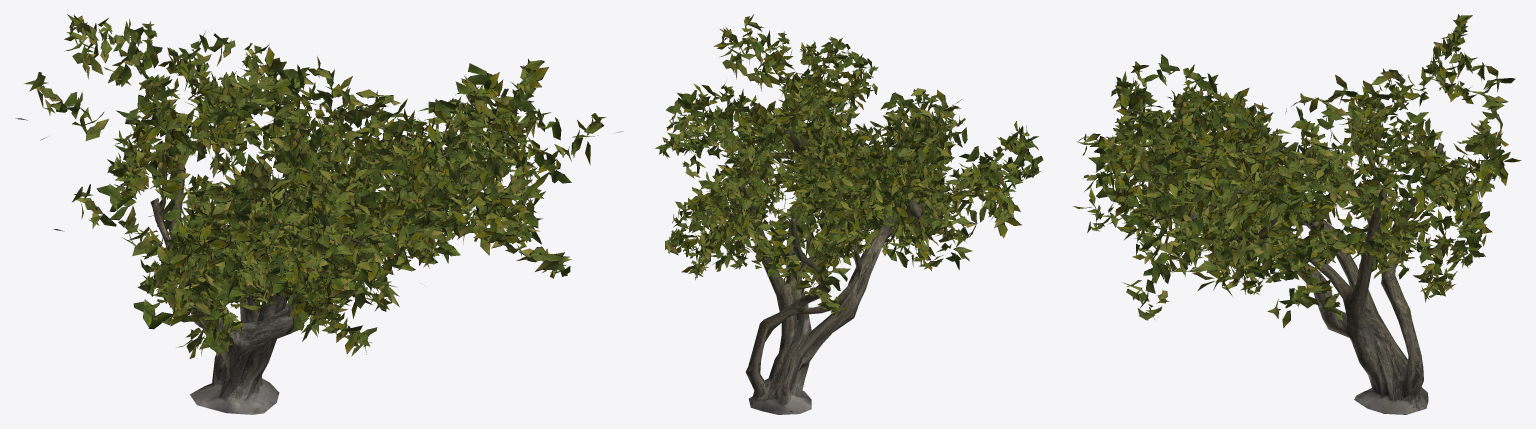
3 renders of one model, left to right at view 1: azimuth 30°, elevation 25°; view 2: azimuth 150°, elevation 25°; view 3: azimuth 270°, elevation 25°, orthographic. The views are drawn at different scales.
Parts seen in each view (by area): view 1: island_tree_02_LOD0; view 2: island_tree_02_LOD0; view 3: island_tree_02_LOD0.
Part boxes in pixels (x1=…): island_tree_02_LOD0: x1=15, y1=14, x2=623, y2=414; island_tree_02_LOD0: x1=655, y1=14, x2=1043, y2=414; island_tree_02_LOD0: x1=1073, y1=14, x2=1521, y2=414.
Size of the model in its own units: 4.21 by 3.41 by 4.2.
Materials: 3 (3 with a texture image).
